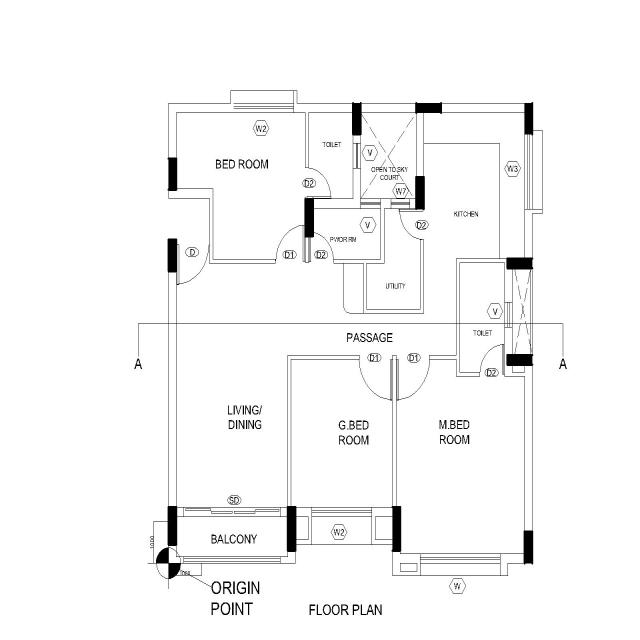Column: (286, 505, 298, 553), (392, 505, 402, 553), (167, 505, 178, 547), (351, 101, 363, 137), (414, 175, 426, 211), (304, 197, 314, 239), (167, 238, 178, 274), (523, 529, 534, 565), (506, 257, 534, 271), (506, 353, 534, 367), (414, 102, 444, 115), (168, 156, 178, 192), (524, 102, 534, 136)
Door: (396, 353, 431, 361), (176, 243, 210, 251), (358, 354, 392, 361), (478, 370, 506, 378), (309, 257, 335, 265), (304, 166, 310, 200), (419, 208, 425, 241), (274, 258, 306, 264)
Sliding Door: (182, 506, 282, 518)
Ventilator: (503, 301, 514, 329), (352, 142, 362, 170), (359, 198, 382, 210)
Window: (419, 552, 502, 566), (229, 102, 295, 115), (311, 506, 374, 518), (524, 132, 533, 212), (391, 198, 412, 210)
